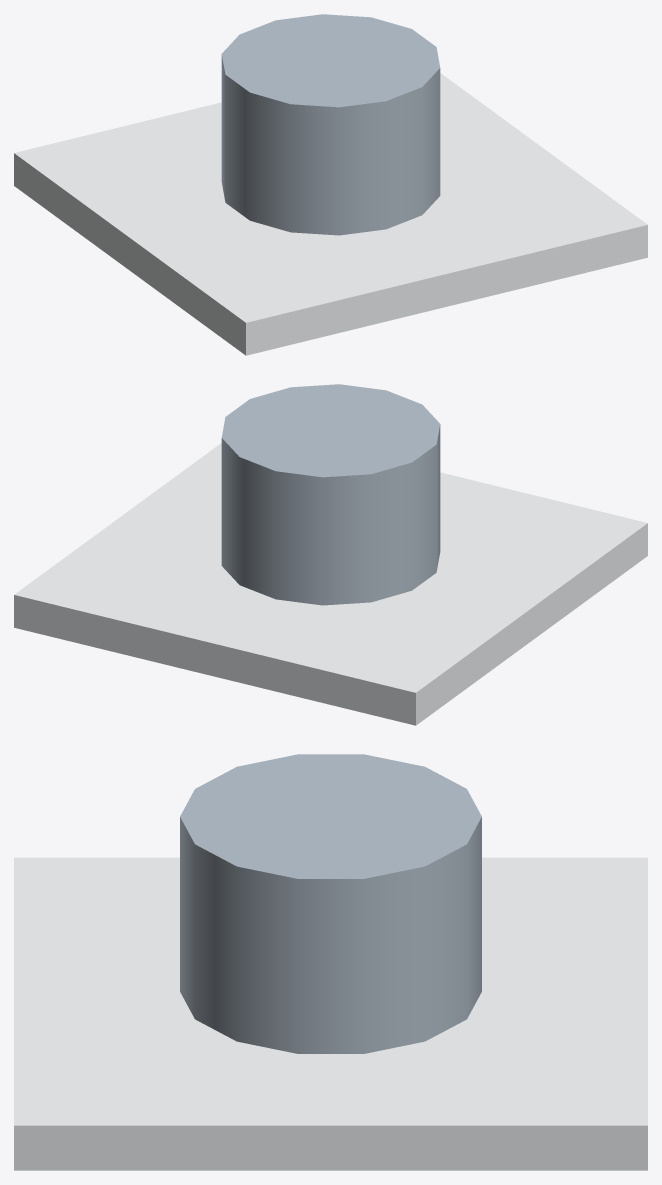
File: term-supply-ceiling-diffuser.glb
The picture shows the model from 3 angles, top to bottom: view 1: azimuth 30°, elevation 25°; view 2: azimuth 150°, elevation 25°; view 3: azimuth 270°, elevation 25°; orthographic projection. The views are drawn at different scales.
Parts seen in each view (by area): view 1: hvac-terminal-supply-ceiling-diffuser; view 2: hvac-terminal-supply-ceiling-diffuser; view 3: hvac-terminal-supply-ceiling-diffuser.
Part boxes in pixels (<box>): hvac-terminal-supply-ceiling-diffuser: <box>14,14,647,355</box>; hvac-terminal-supply-ceiling-diffuser: <box>14,384,647,725</box>; hvac-terminal-supply-ceiling-diffuser: <box>14,754,647,1170</box>.
Size of the model in its own units: 0.32 by 0.133 by 0.32.
